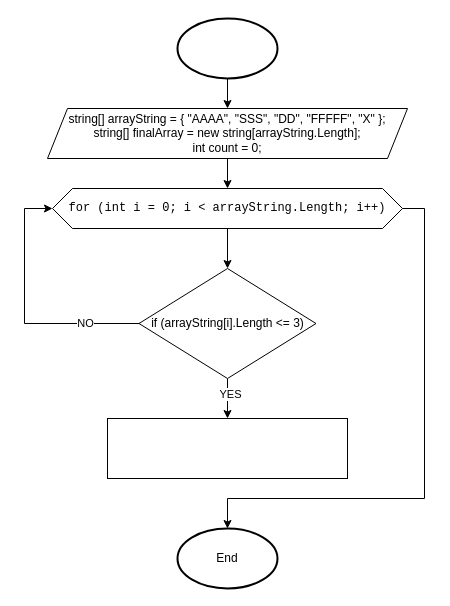
Image size: 450x606. Some labels were removed from this diagram. The centre of each missing label's shape, as x and y in pixels:
"Begin" goes at (x=227, y=48).
"finalArray[i] = arrayString[i]; count++;" goes at (x=227, y=448).
